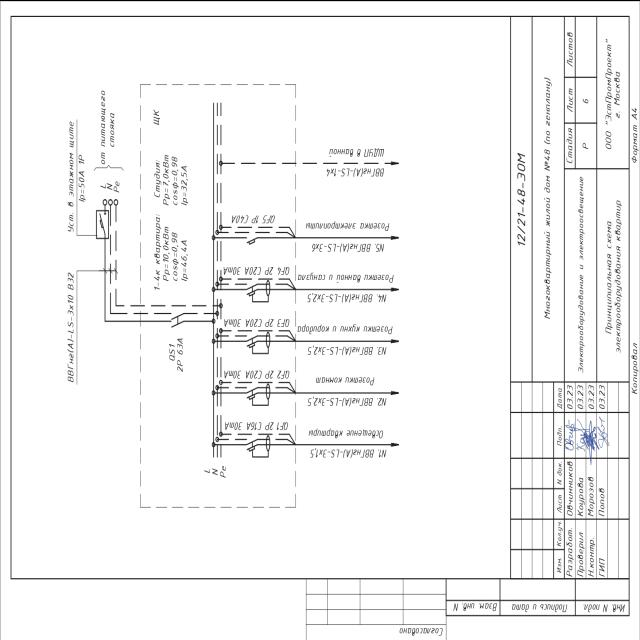-: (222, 264, 274, 276), (223, 368, 275, 380), (222, 316, 274, 328), (222, 419, 274, 431), (174, 334, 187, 376), (229, 212, 261, 224), (152, 106, 161, 126)
QF: (243, 233, 260, 246)
QFD: (242, 378, 270, 406), (244, 432, 272, 460), (243, 277, 271, 305), (245, 328, 272, 356)
QS: (168, 310, 185, 328)
